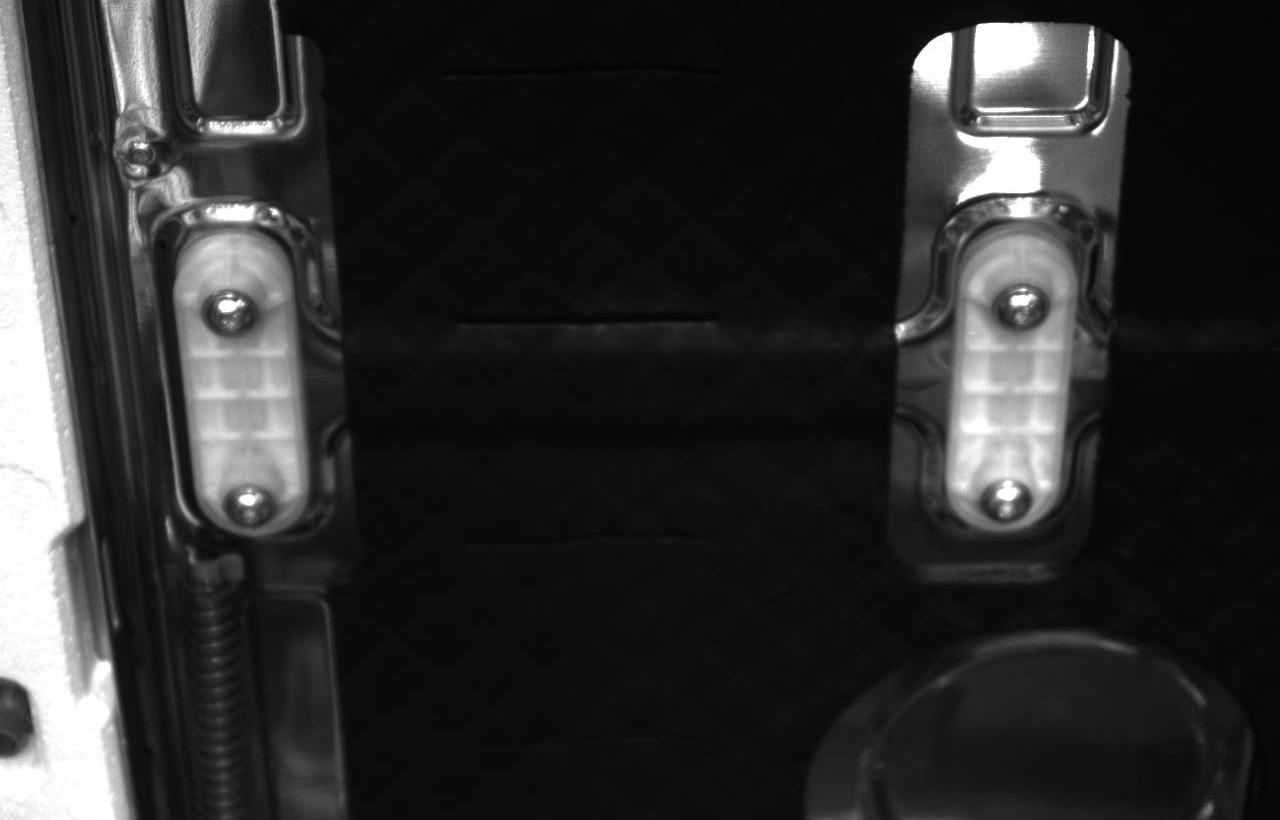vida-ok: (193, 278, 264, 345), (973, 462, 1039, 531), (994, 274, 1061, 341), (214, 477, 280, 535)
